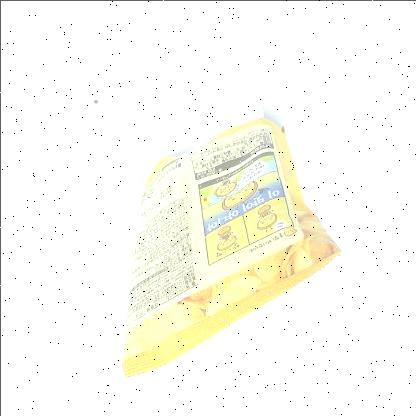Others: (95, 106, 347, 390)
